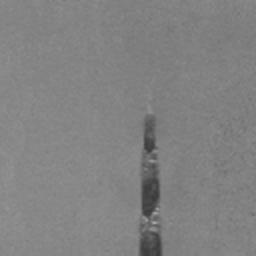Slag inclusion: (136, 114, 164, 256)
